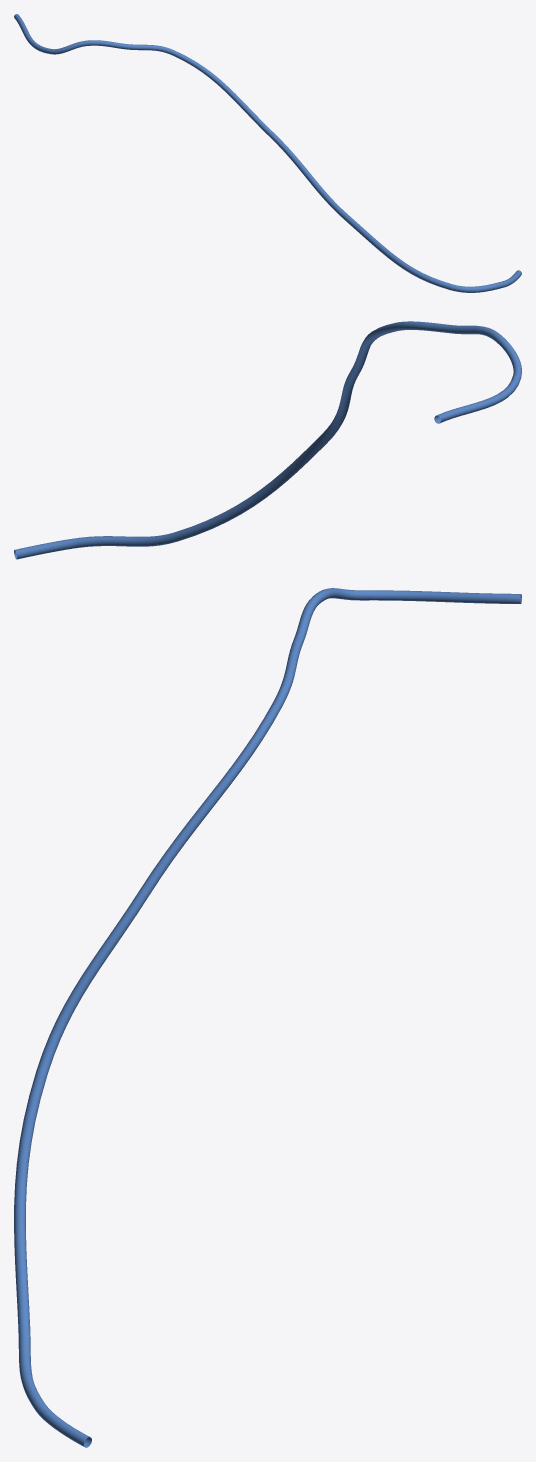
3 renders of one model, top to bottom at view 1: azimuth 30°, elevation 25°; view 2: azimuth 150°, elevation 25°; view 3: azimuth 270°, elevation 25°, orthographic. The views are drawn at different scales.
Parts seen in each view (by area): view 1: 右侧肩胛上静脉; view 2: 右侧肩胛上静脉; view 3: 右侧肩胛上静脉.
Part boxes in pixels (x1,y1,x2,y2): 右侧肩胛上静脉: [14, 14, 521, 292]; 右侧肩胛上静脉: [14, 321, 521, 559]; 右侧肩胛上静脉: [14, 588, 521, 1447].
Size of the model in its own units: 0.1495 by 0.0995 by 0.0881.
